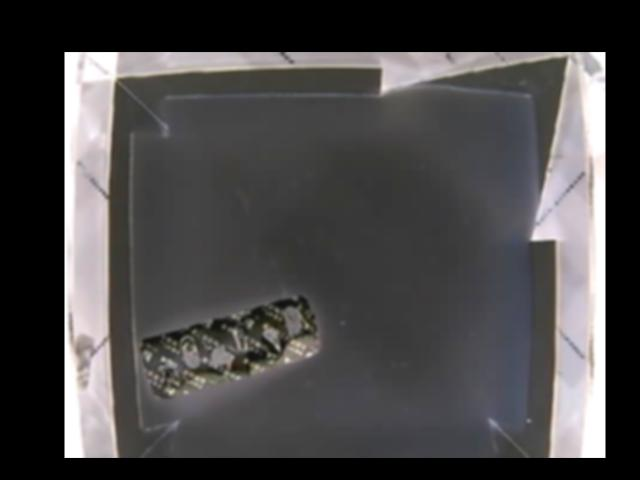Medicine: (136, 296, 320, 399)
